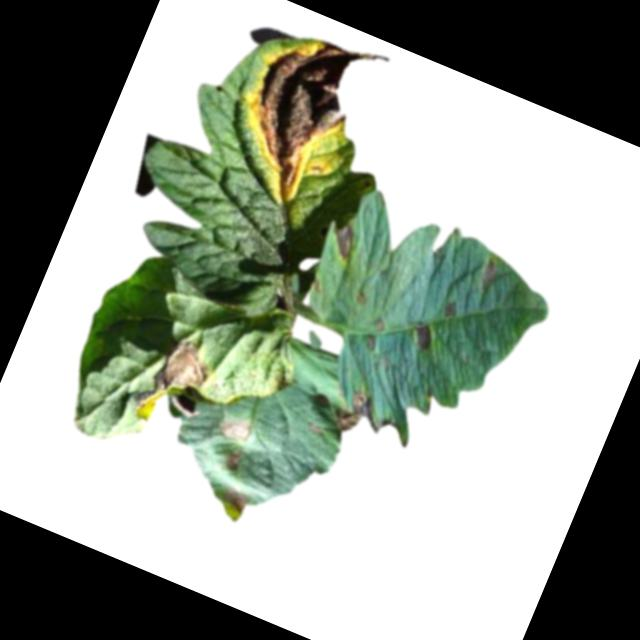Early_blight: (224, 12, 391, 215), (126, 327, 230, 444), (330, 385, 380, 439), (326, 220, 363, 266), (471, 252, 504, 293), (217, 413, 254, 445), (407, 318, 438, 354), (222, 485, 251, 516), (222, 446, 248, 475), (440, 298, 463, 322), (373, 314, 391, 335), (356, 290, 372, 304)
